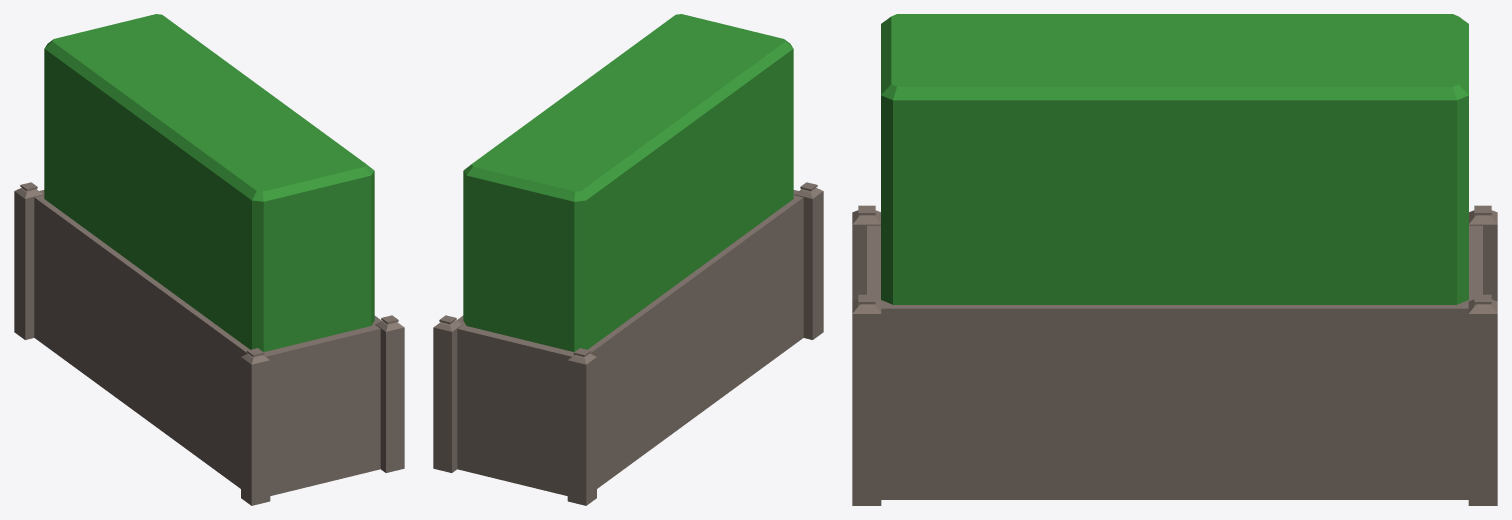
The model's file is simple bush.fbx.
The picture shows the model from 3 angles, left to right: view 1: azimuth 30°, elevation 25°; view 2: azimuth 150°, elevation 25°; view 3: azimuth 270°, elevation 25°; orthographic projection. The views are drawn at different scales.
Visible parts, largest first — view 1: pCube21; view 2: pCube21; view 3: pCube21.
Boxes of the visible parts, <box> form: pCube21: <box>14,14,404,505</box>; pCube21: <box>433,14,823,505</box>; pCube21: <box>852,14,1497,505</box>.
Bounding box in the file's own units: 8.25 × 15.36 × 22.18.
